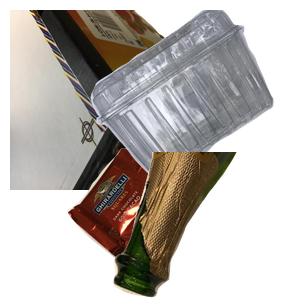cardboard: (10, 10, 238, 190)
glass: (111, 152, 300, 300)
plastic: (88, 10, 300, 180)
trash: (65, 145, 242, 300)
